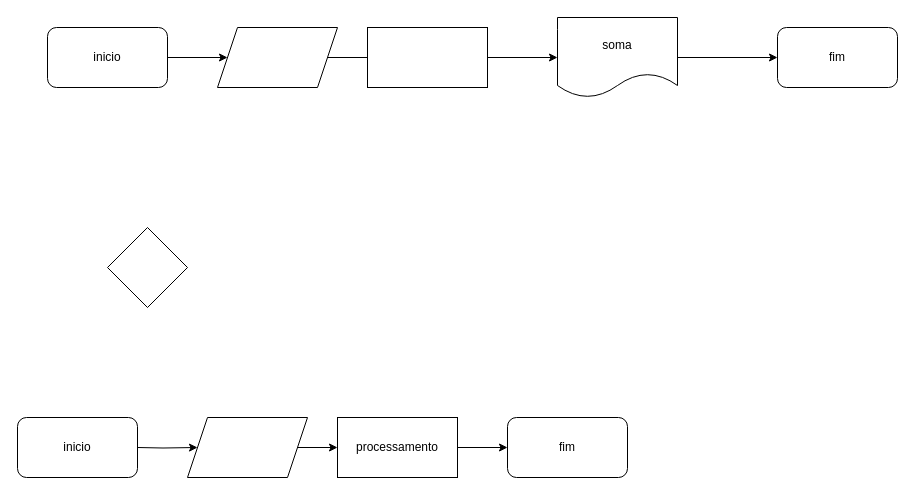
Some shapes in this 915 by 495 pixel diagram are drawn without their labels. The centre of each missing label's shape, as x and y in pixels:
"A B" belongs at point 277,57.
"entrada" belongs at point 247,447.
"soma=A+B" belongs at point 427,57.
